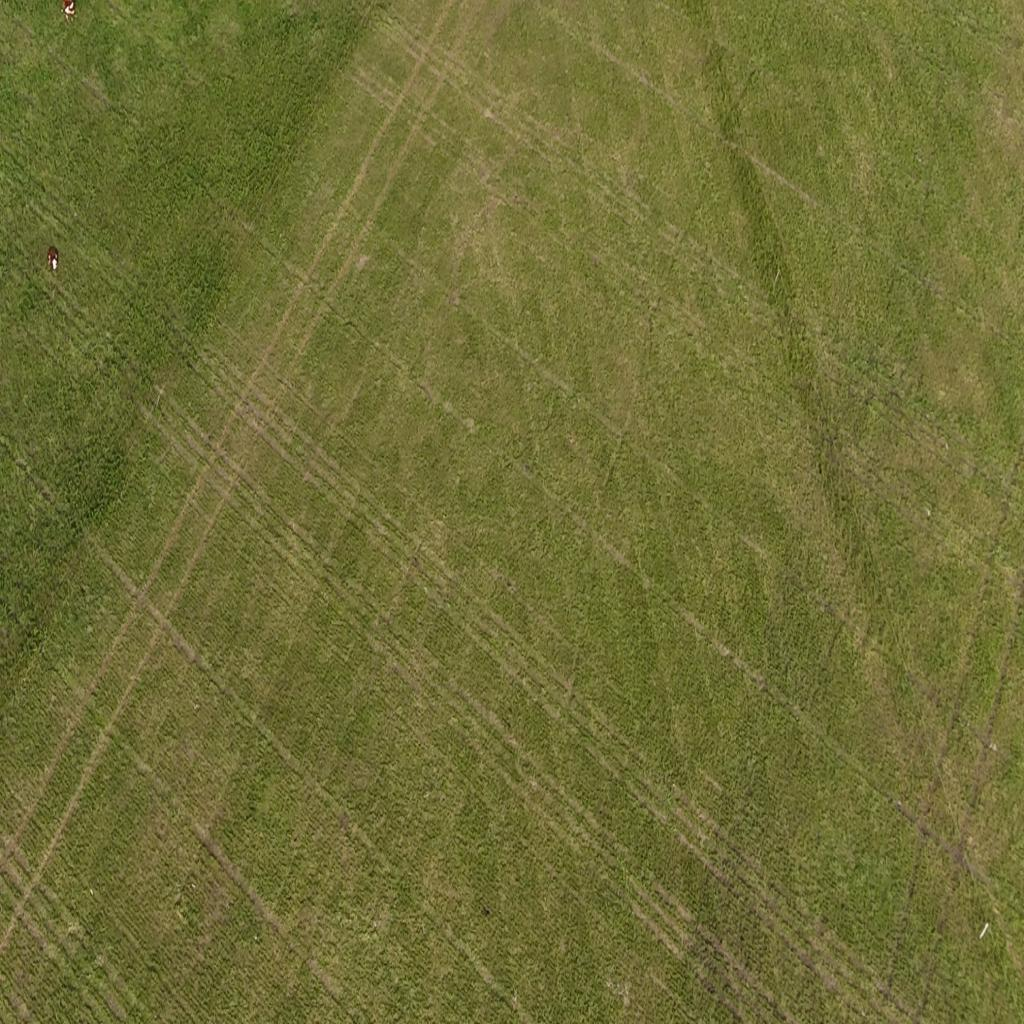cow: (44, 244, 66, 284), (60, 0, 78, 26), (978, 916, 994, 942)
